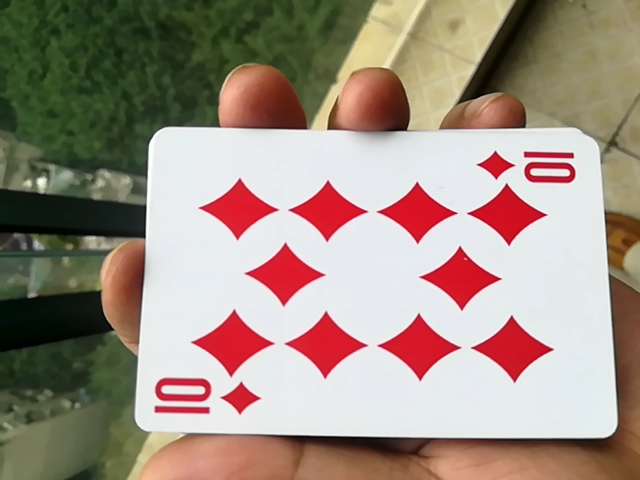fk 10: (124, 124, 610, 458)
